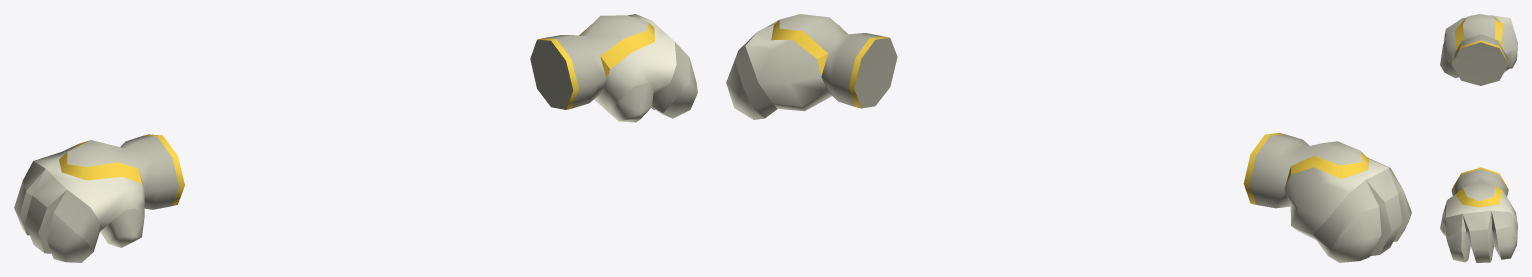
Rendered from Glove_18.fbx.
3 views of the same model, side by side, from view 1: azimuth 30°, elevation 25°; view 2: azimuth 150°, elevation 25°; view 3: azimuth 270°, elevation 25° (orthographic). The views are drawn at different scales.
Visible parts, largest first — view 1: Glove_18; view 2: Glove_18; view 3: Glove_18.
Part boxes in pixels (left/top/right/bottom): Glove_18: left=14, top=14, right=697, bottom=262; Glove_18: left=726, top=14, right=1411, bottom=262; Glove_18: left=1440, top=14, right=1517, bottom=262.
Bounding box in the file's own units: 136 × 19.42 × 21.27.
